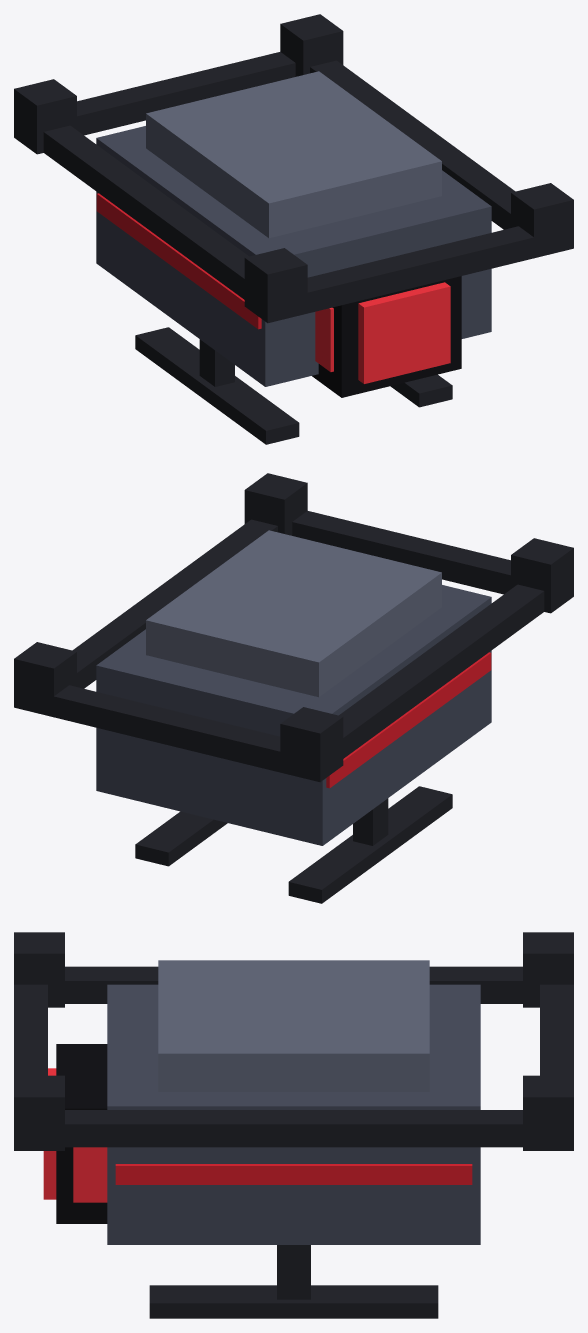
The model's file is drone_body.obj.
The picture shows the model from 3 angles, top to bottom: view 1: azimuth 30°, elevation 25°; view 2: azimuth 150°, elevation 25°; view 3: azimuth 270°, elevation 25°; orthographic projection. The views are drawn at different scales.
Parts seen in each view (by area): view 1: drone_body; view 2: drone_body; view 3: drone_body.
Part boxes in pixels (x1,y1,x2,y2): drone_body: (14,14,573,444); drone_body: (14,473,573,903); drone_body: (14,932,573,1318).
Size of the model in its own units: 0.46 by 0.34 by 0.66.
1 material, 1 textured.
